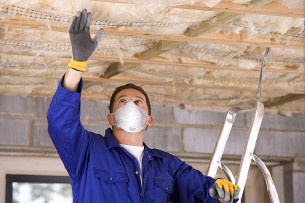Mask: (111, 93, 151, 133)
